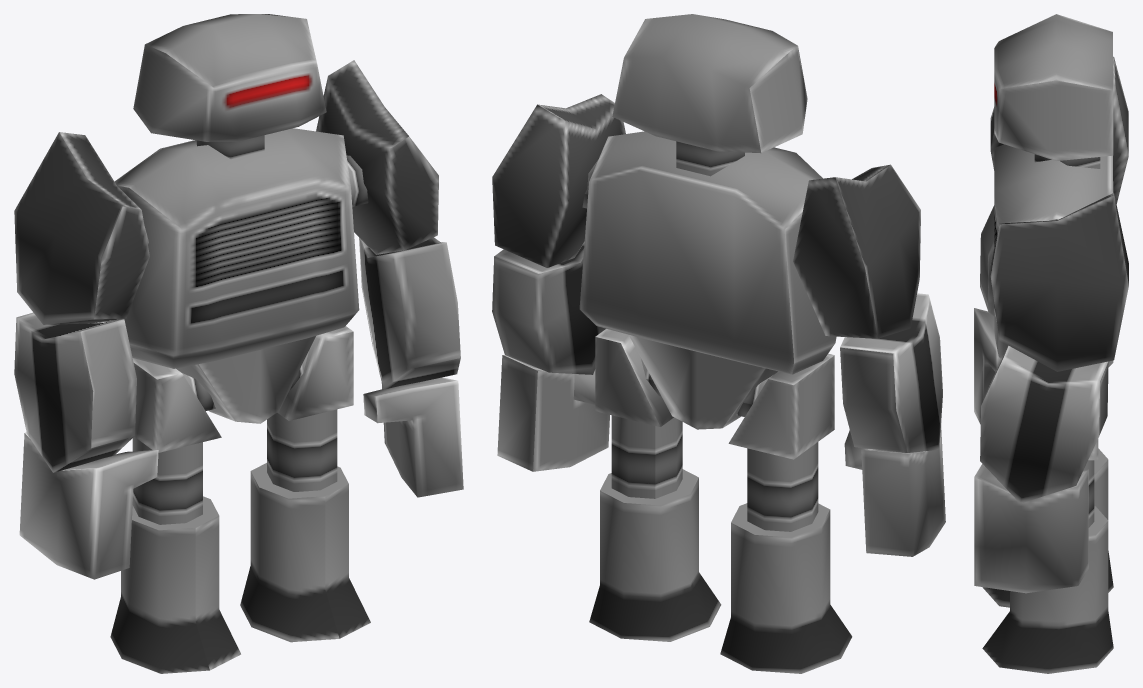
The model's file is RobotFriend.obj.
The picture shows the model from 3 angles, left to right: view 1: azimuth 30°, elevation 25°; view 2: azimuth 150°, elevation 25°; view 3: azimuth 270°, elevation 25°; orthographic projection. The views are drawn at different scales.
Parts seen in each view (by area): view 1: Handle1; view 2: Handle1; view 3: Handle1.
Part boxes in pixels (<box>): Handle1: <box>14,14,463,673</box>; Handle1: <box>492,14,945,673</box>; Handle1: <box>974,14,1128,673</box>.
Bounding box in the file's own units: 0.9879 × 1.39 × 0.3334.
1 material, 1 textured.
